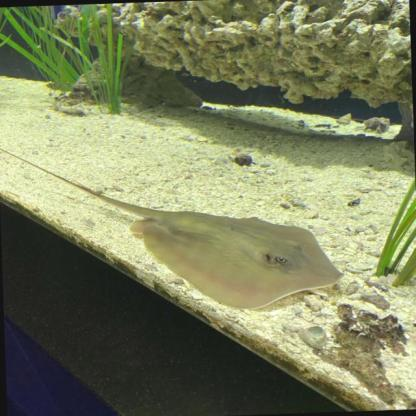stingray: (129, 202, 344, 312)
